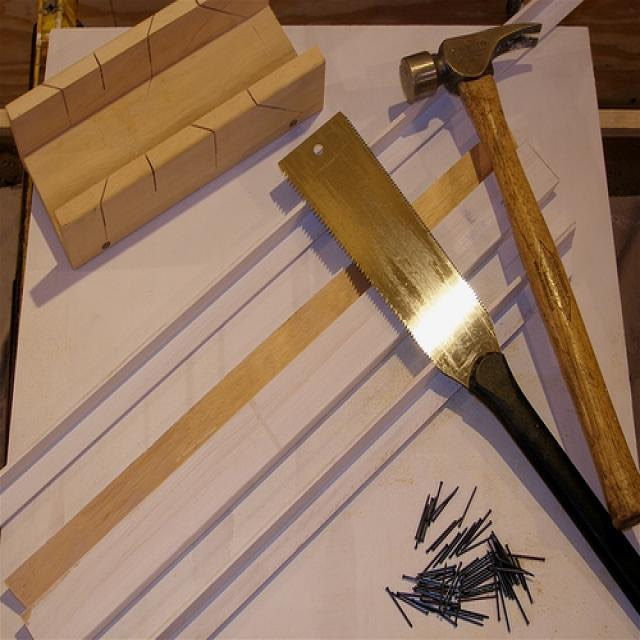hammer: (395, 13, 640, 540)
